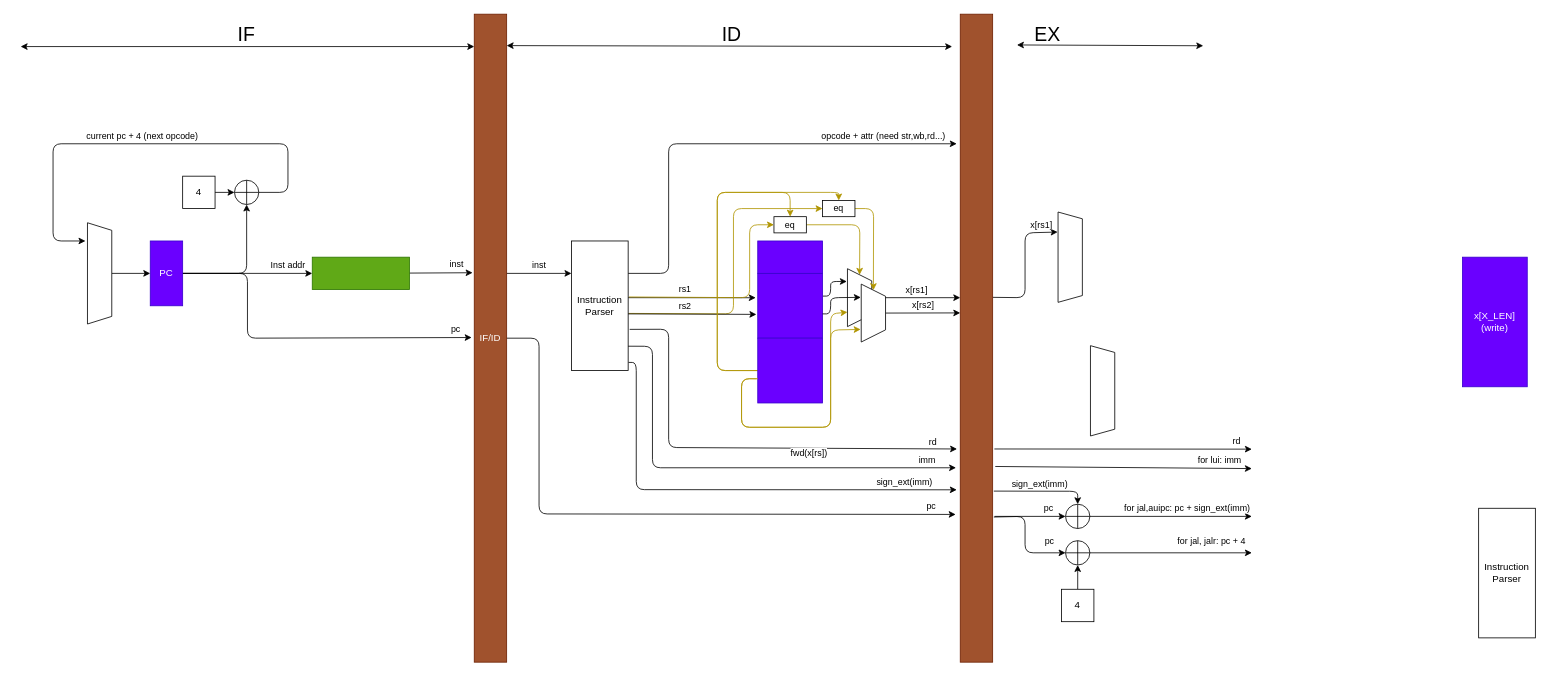
This 1550x676 diagram has some shape labels left out. Here are the shapes that lost their labels. From the top down, the box of each, then its label:
(311, 256, 409, 290): Instruction Memory Read
(757, 240, 823, 273): x[X_LEN]
(757, 273, 823, 338): Read
(959, 13, 993, 662): ID/EX
(757, 337, 823, 403): Write
